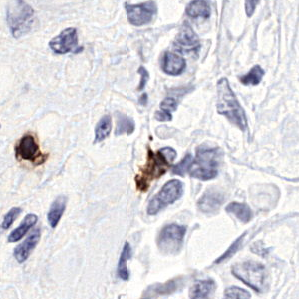Lymphocyte: (19, 134, 43, 161)
